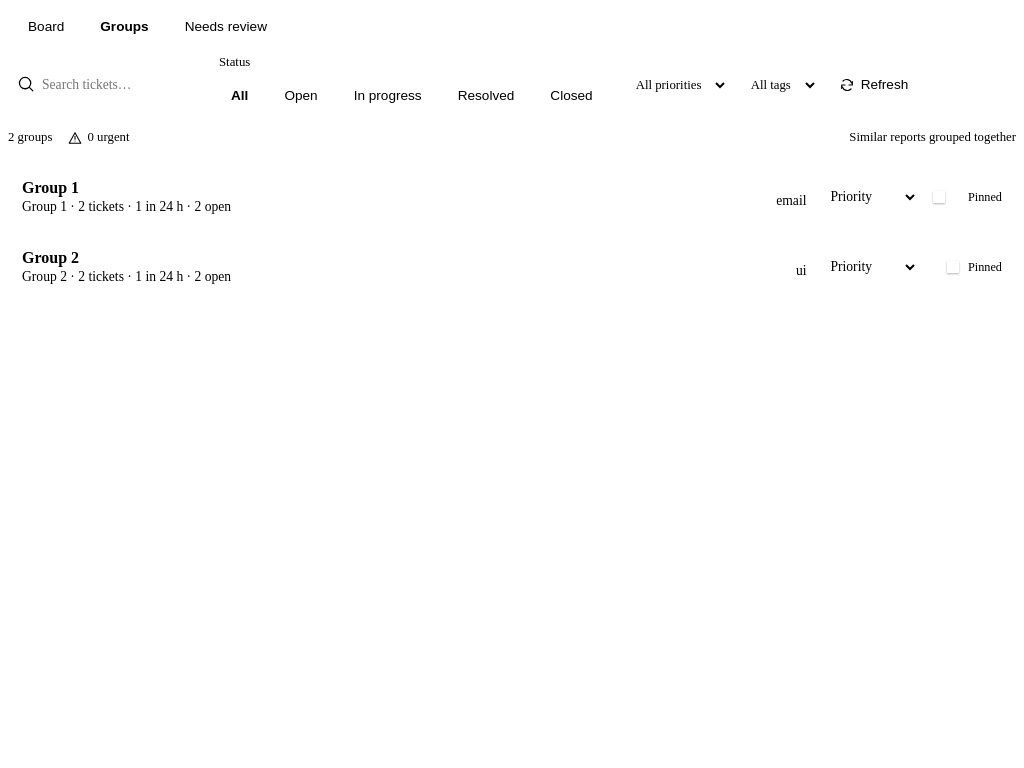
it: TicketsPanel › opens a ticket in the drawer
Click the button with class "expand" that starts with "Group 1" at (51, 188), box left=22, top=179, right=752, bottom=215
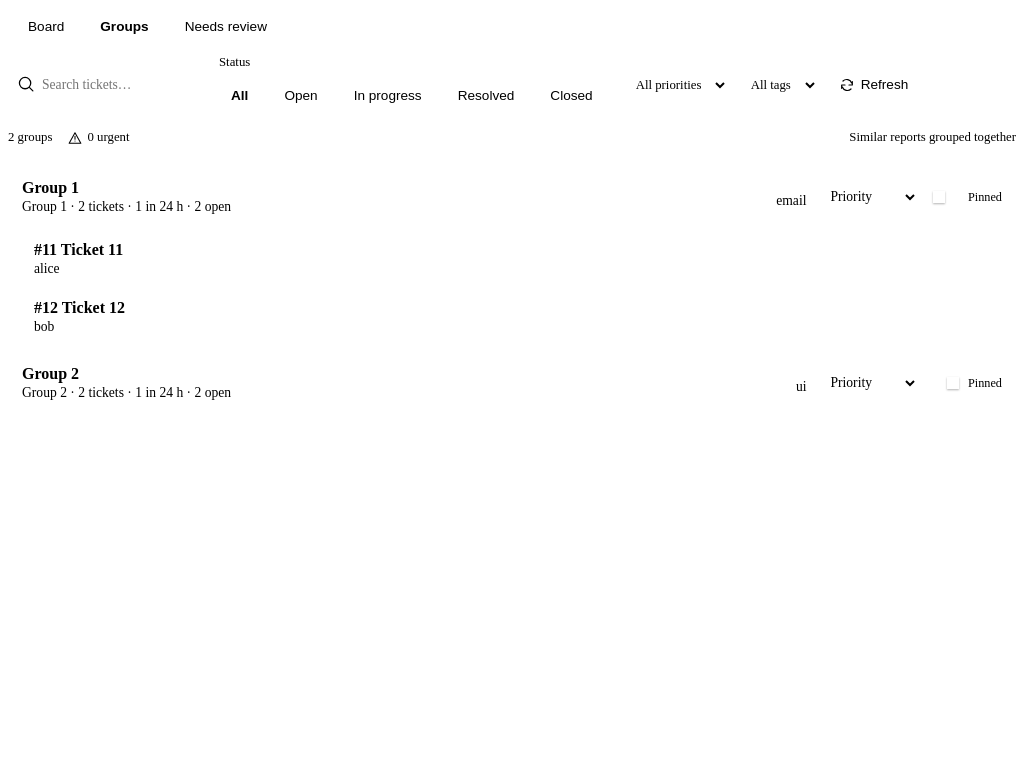
Click the button with class "ticket-link" showing "#11 Ticket 11 alice" at (79, 250), box left=22, top=233, right=1016, bottom=285
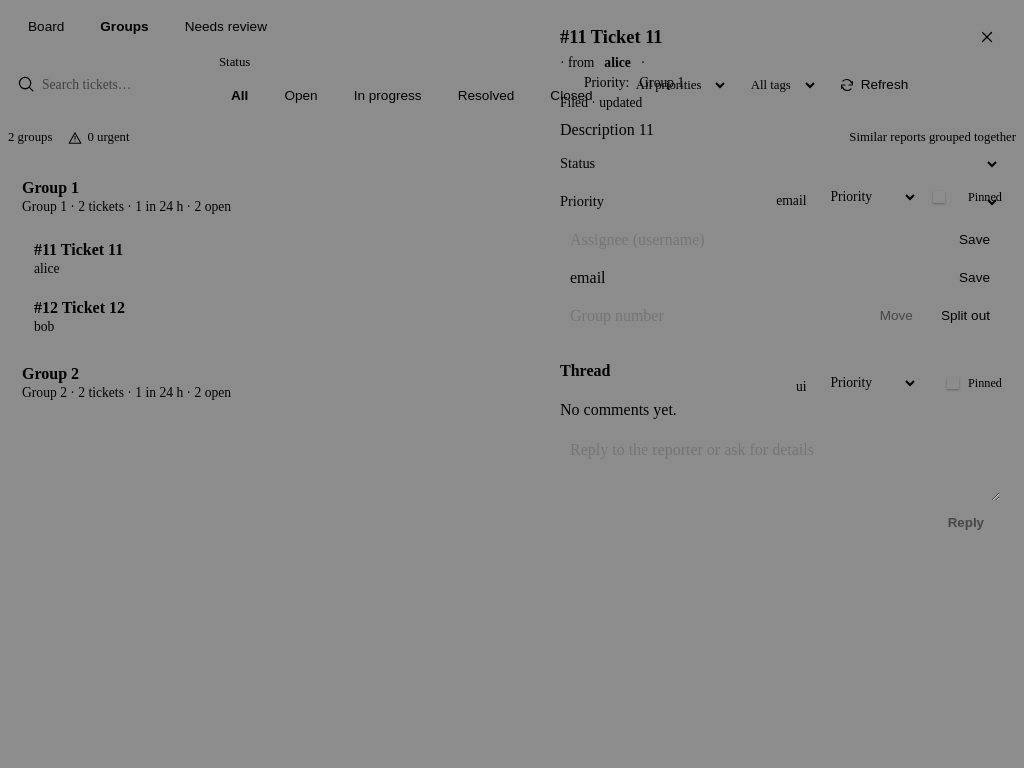
Now the element with class "drawer" shows "Ticket 11", box left=560, top=27, right=662, bottom=47
